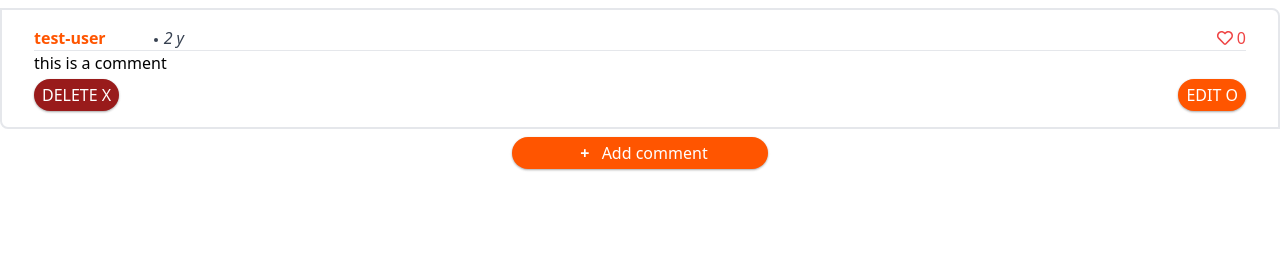
Scenario: <ListComments rendering tests: › Cancel button should hide the form
The image size is (1280, 272).
Click the button with aria-label "Add a comment": [640, 153] box [512,137,768,169]
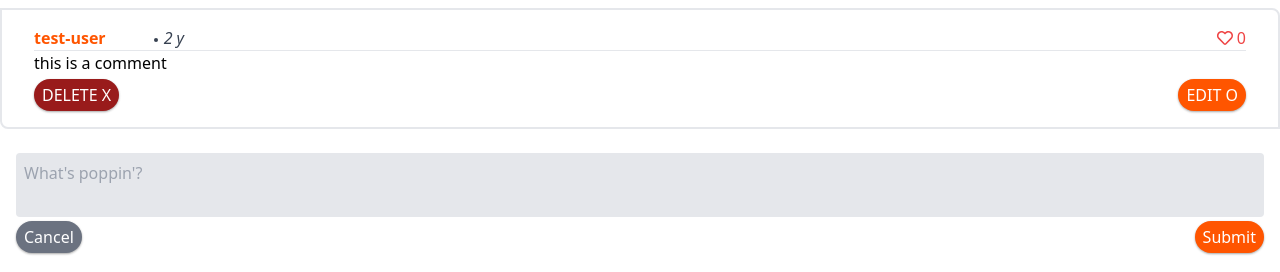
expect the text box named "Write a comment" is shown: met, box [16,153,1264,217]
Click the button "Cancel": [49, 237] box [16,221,82,253]
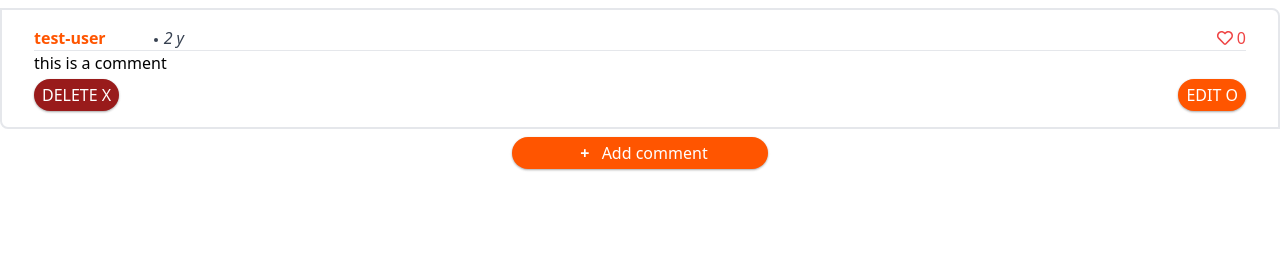
expect the button "Cancel" is gone: met
expect the button with aria-label "Add a comment" is shown: met, box [512,137,768,169]
